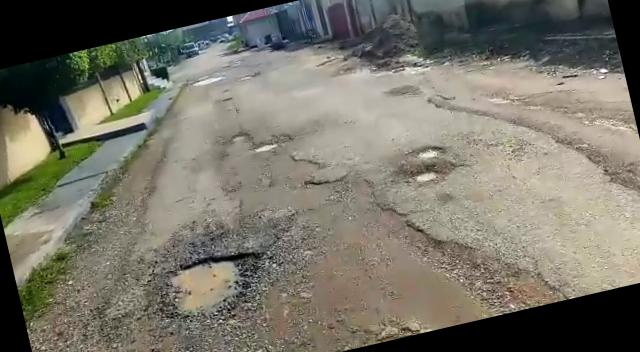pothole: (157, 246, 271, 329), (410, 142, 446, 165), (250, 140, 282, 156), (412, 169, 440, 187), (227, 130, 253, 144)
